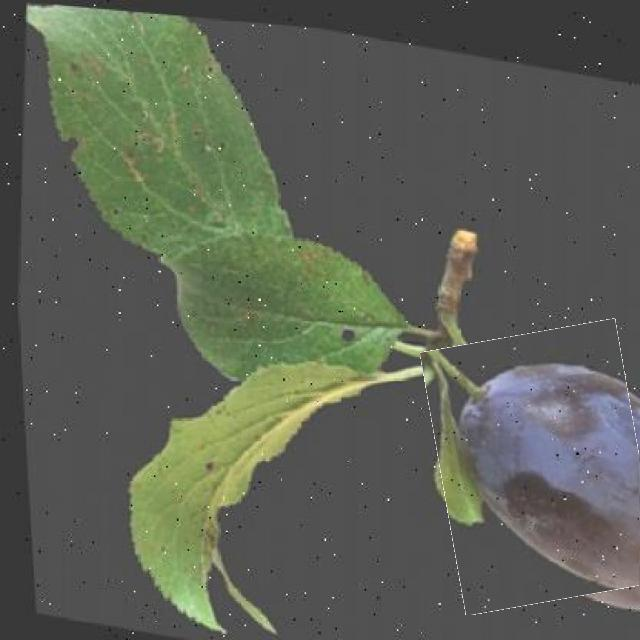plum: (431, 325, 640, 607)
